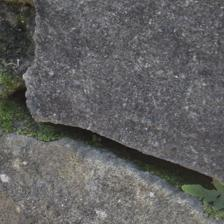Crack: (116, 0, 198, 100), (56, 0, 157, 57)
